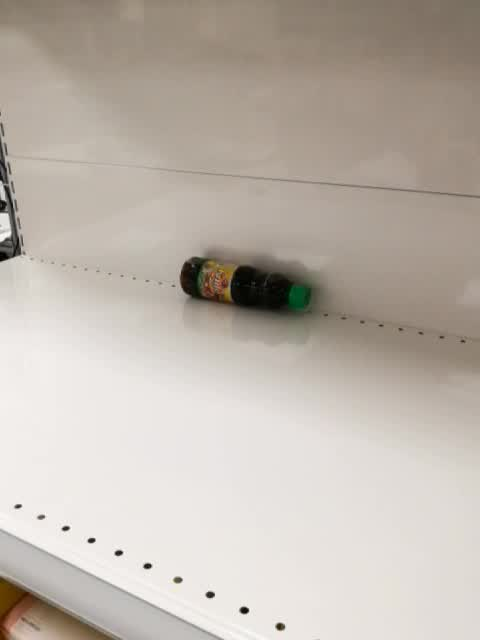cookingoil: (178, 252, 313, 313)
